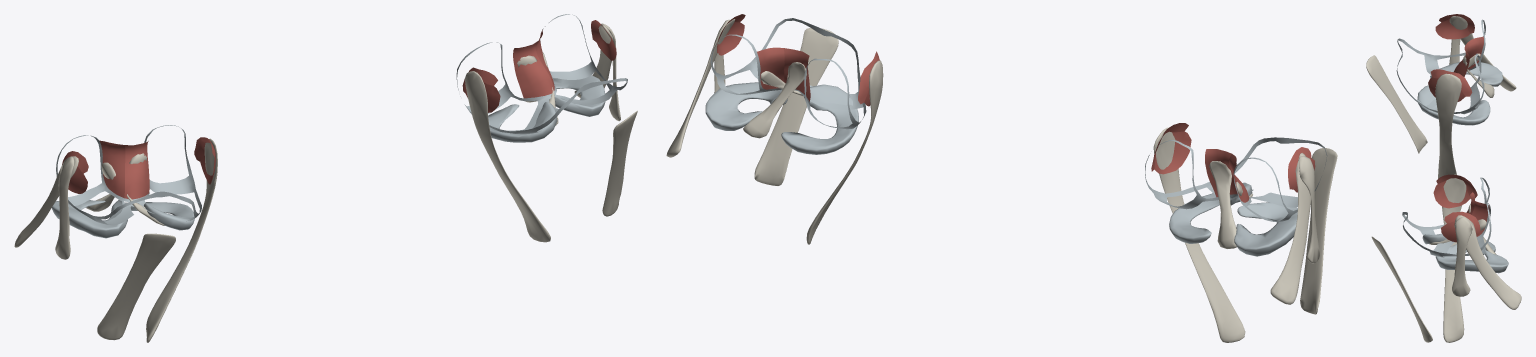
Rendered from adult_female.joint.LOD4.glb.
3 renders of one model, left to right at view 1: azimuth 30°, elevation 25°; view 2: azimuth 150°, elevation 25°; view 3: azimuth 270°, elevation 25°, orthographic. The views are drawn at different scales.
Parts seen in each view (by area): view 1: ADULT.FEMALE.JOINT.PATELLAR_LIGAMENT.R, ADULT.FEMALE.JOINT.MENISCUS.L, ADULT.FEMALE.JOINT.ARTICULAR_CARTILAGE_OF_KNEE.R, ADULT.FEMALE.JOINT.ARTICULAR_CARTILAGE_OF_KNEE.L, ADULT.FEMALE.JOINT.TIBIAL_COLLATERAL_LIGAMENT.L, ADULT.FEMALE.JOINT.MENISCUS.R, ADULT.FEMALE.JOINT.TIBIAL_COLLATERAL_LIGAMENT.R, ADULT.FEMALE.JOINT.PATELLAR_LIGAMENT.L, ADULT.FEMALE.JOINT.POSTERIOR_CRUCIATE_ENTHESIS.L, ADULT.FEMALE.JOINT.POSTERIOR_CRUCIATE_ENTHESIS.R, ADULT.FEMALE.JOINT.ANTEROLATERAL_LIGAMENT_OF_KNEE.R, ADULT.FEMALE.JOINT.ANTERIOR_CRUCIATE_ENTHESIS.R (+2 smaller); view 2: ADULT.FEMALE.JOINT.MENISCUS.L, ADULT.FEMALE.JOINT.MENISCUS.R, ADULT.FEMALE.JOINT.PATELLAR_LIGAMENT.L, ADULT.FEMALE.JOINT.TIBIAL_COLLATERAL_LIGAMENT.R, ADULT.FEMALE.JOINT.PATELLAR_LIGAMENT.R, ADULT.FEMALE.JOINT.ARTICULAR_CARTILAGE_OF_KNEE.L, ADULT.FEMALE.JOINT.ARTICULAR_CARTILAGE_OF_KNEE.R, ADULT.FEMALE.JOINT.FIBULAR_COLLATERAL_LIGAMENT.R, ADULT.FEMALE.JOINT.POSTERIOR_CRUCIATE_LIGAMENT_OF_KNEE.R, ADULT.FEMALE.JOINT.POSTERIOR_CRUCIATE_LIGAMENT_OF_KNEE.L, ADULT.FEMALE.JOINT.TIBIAL_COLLATERAL_LIGAMENT.L, ADULT.FEMALE.JOINT.ANTEROLATERAL_LIGAMENT_OF_KNEE.R (+6 smaller); view 3: ADULT.FEMALE.JOINT.TIBIAL_COLLATERAL_LIGAMENT.R, ADULT.FEMALE.JOINT.TIBIAL_COLLATERAL_LIGAMENT.L, ADULT.FEMALE.JOINT.MENISCUS.R, ADULT.FEMALE.JOINT.FIBULAR_COLLATERAL_LIGAMENT.L, ADULT.FEMALE.JOINT.PATELLAR_LIGAMENT.R, ADULT.FEMALE.JOINT.ARTICULAR_CARTILAGE_OF_KNEE.R, ADULT.FEMALE.JOINT.MENISCUS.L, ADULT.FEMALE.JOINT.ARTICULAR_CARTILAGE_OF_KNEE.L, ADULT.FEMALE.JOINT.ANTEROLATERAL_LIGAMENT_OF_KNEE.L, ADULT.FEMALE.JOINT.PATELLAR_LIGAMENT.L, ADULT.FEMALE.JOINT.FIBULAR_COLLATERAL_LIGAMENT.R, ADULT.FEMALE.JOINT.LATERAL_PERICHONDULAR_SURFACE.R (+13 smaller).
Boxes of the visible parts, x1,y1,x2,y2 form: ADULT.FEMALE.JOINT.PATELLAR_LIGAMENT.R: (97, 233, 175, 340); ADULT.FEMALE.JOINT.MENISCUS.L: (488, 75, 605, 142); ADULT.FEMALE.JOINT.ARTICULAR_CARTILAGE_OF_KNEE.R: (56, 125, 201, 224); ADULT.FEMALE.JOINT.ARTICULAR_CARTILAGE_OF_KNEE.L: (456, 14, 627, 134); ADULT.FEMALE.JOINT.TIBIAL_COLLATERAL_LIGAMENT.L: (464, 71, 550, 242); ADULT.FEMALE.JOINT.MENISCUS.R: (52, 200, 194, 238); ADULT.FEMALE.JOINT.TIBIAL_COLLATERAL_LIGAMENT.R: (146, 138, 217, 342); ADULT.FEMALE.JOINT.PATELLAR_LIGAMENT.L: (602, 110, 637, 216); ADULT.FEMALE.JOINT.POSTERIOR_CRUCIATE_ENTHESIS.L: (513, 41, 554, 98); ADULT.FEMALE.JOINT.POSTERIOR_CRUCIATE_ENTHESIS.R: (124, 141, 149, 199); ADULT.FEMALE.JOINT.ANTEROLATERAL_LIGAMENT_OF_KNEE.R: (55, 156, 74, 259); ADULT.FEMALE.JOINT.ANTERIOR_CRUCIATE_ENTHESIS.R: (99, 140, 125, 197); ADULT.FEMALE.JOINT.MENISCUS.L: (705, 82, 858, 154); ADULT.FEMALE.JOINT.MENISCUS.R: (1169, 182, 1297, 256); ADULT.FEMALE.JOINT.PATELLAR_LIGAMENT.L: (754, 28, 838, 185); ADULT.FEMALE.JOINT.TIBIAL_COLLATERAL_LIGAMENT.R: (1153, 127, 1245, 342); ADULT.FEMALE.JOINT.PATELLAR_LIGAMENT.R: (1300, 148, 1337, 314); ADULT.FEMALE.JOINT.ARTICULAR_CARTILAGE_OF_KNEE.L: (710, 18, 866, 129); ADULT.FEMALE.JOINT.ARTICULAR_CARTILAGE_OF_KNEE.R: (1145, 137, 1327, 221); ADULT.FEMALE.JOINT.FIBULAR_COLLATERAL_LIGAMENT.R: (1270, 153, 1311, 304); ADULT.FEMALE.JOINT.POSTERIOR_CRUCIATE_LIGAMENT_OF_KNEE.R: (1209, 161, 1236, 248); ADULT.FEMALE.JOINT.POSTERIOR_CRUCIATE_LIGAMENT_OF_KNEE.L: (743, 62, 807, 138); ADULT.FEMALE.JOINT.TIBIAL_COLLATERAL_LIGAMENT.L: (806, 60, 883, 244); ADULT.FEMALE.JOINT.ANTEROLATERAL_LIGAMENT_OF_KNEE.R: (1298, 156, 1319, 263); ADULT.FEMALE.JOINT.TIBIAL_COLLATERAL_LIGAMENT.R: (1435, 73, 1461, 178); ADULT.FEMALE.JOINT.TIBIAL_COLLATERAL_LIGAMENT.L: (1442, 174, 1466, 342); ADULT.FEMALE.JOINT.MENISCUS.R: (1417, 61, 1503, 125); ADULT.FEMALE.JOINT.FIBULAR_COLLATERAL_LIGAMENT.L: (1454, 215, 1521, 309); ADULT.FEMALE.JOINT.PATELLAR_LIGAMENT.R: (1366, 55, 1427, 153); ADULT.FEMALE.JOINT.ARTICULAR_CARTILAGE_OF_KNEE.R: (1396, 19, 1485, 114); ADULT.FEMALE.JOINT.MENISCUS.L: (1422, 233, 1508, 273); ADULT.FEMALE.JOINT.ARTICULAR_CARTILAGE_OF_KNEE.L: (1402, 177, 1491, 257); ADULT.FEMALE.JOINT.ANTEROLATERAL_LIGAMENT_OF_KNEE.L: (1452, 217, 1472, 296); ADULT.FEMALE.JOINT.PATELLAR_LIGAMENT.L: (1371, 236, 1432, 342); ADULT.FEMALE.JOINT.FIBULAR_COLLATERAL_LIGAMENT.R: (1449, 16, 1516, 91); ADULT.FEMALE.JOINT.LATERAL_PERICHONDULAR_SURFACE.R: (1435, 19, 1469, 39).
Bounding box in the file's own units: 0.357 × 0.1167 × 0.1064.
